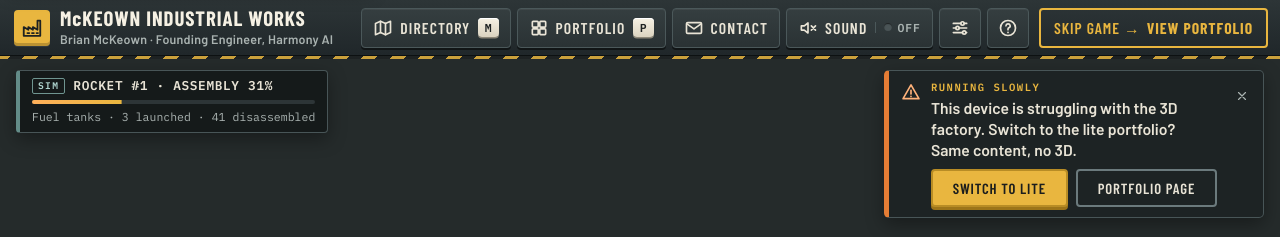
Test case: slow-device lite offer › offers the lite portfolio once per session after ~8 s under 18 fps at the low tier
The width and height of the screenshot is (1280, 237).
Check: the text "This device is struggling with the 3D factory. Switch to the lite portfolio? Same content, no 3D." is shown, box [931, 98, 1178, 159]
Click the button named "Dismiss notification": (1242, 96) [1227, 81, 1257, 111]
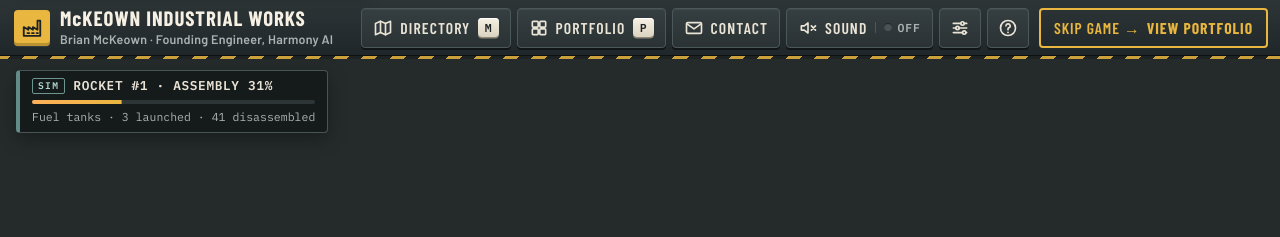
Check: the text "This device is struggling with the 3D factory. Switch to the lite portfolio? Same content, no 3D." is gone
